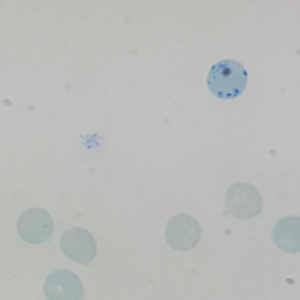aggregate reticulocyte: (205, 58, 250, 101)
erythrocyte: (222, 180, 265, 222), (57, 225, 99, 267), (163, 212, 203, 254)
punctate reticulocyte: (15, 206, 56, 246)
